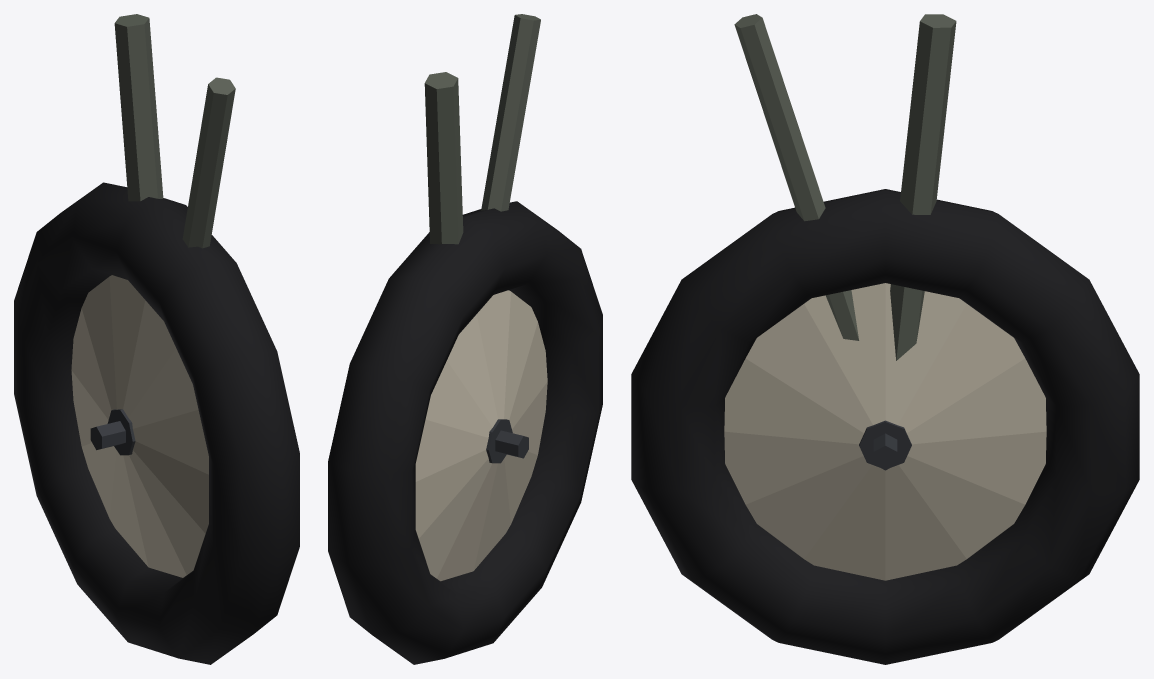
File: wheel_biplane_disc.glb
3 views of the same model, side by side, from view 1: azimuth 30°, elevation 25°; view 2: azimuth 150°, elevation 25°; view 3: azimuth 270°, elevation 25° (orthographic). The views are drawn at different scales.
Parts seen in each view (by area): view 1: Wheel, LegMesh; view 2: Wheel, LegMesh; view 3: Wheel, LegMesh.
Part boxes in pixels (x1,y1,x2,y2): Wheel: [14, 182, 299, 664]; LegMesh: [90, 14, 235, 450]; Wheel: [328, 201, 602, 664]; LegMesh: [424, 14, 540, 458]; Wheel: [631, 189, 1139, 664]; LegMesh: [734, 14, 956, 470].
Size of the model in its own units: 0.28 by 1.35 by 0.9652.
